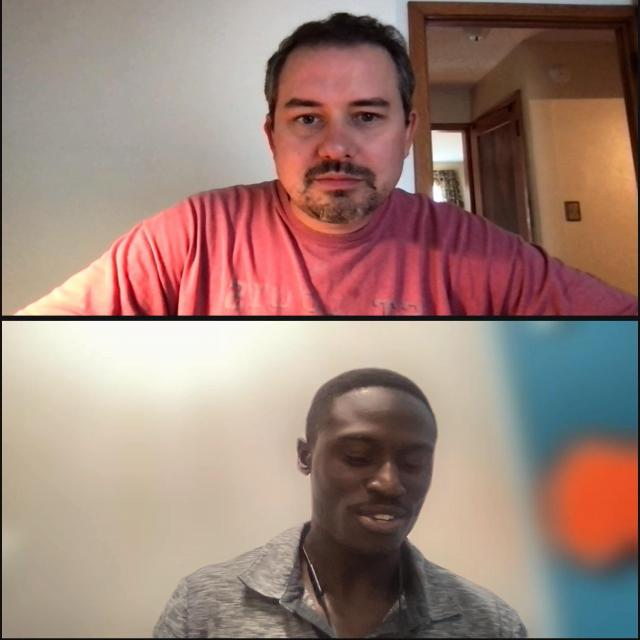face: (263, 31, 414, 228), (299, 381, 437, 559)
